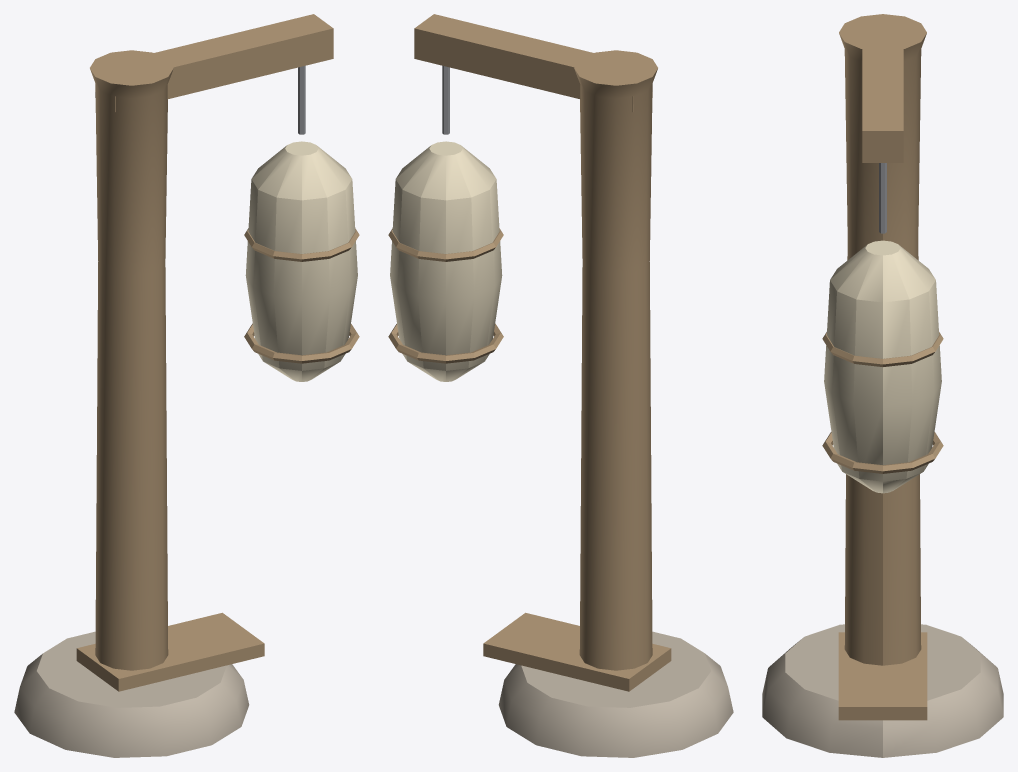
The model's file is roman-bathhouse-and-palaestra-punching-post-9bb15da8__37909.glb.
The picture shows the model from 3 angles, left to right: view 1: azimuth 30°, elevation 25°; view 2: azimuth 150°, elevation 25°; view 3: azimuth 270°, elevation 25°; orthographic projection. The views are drawn at different scales.
Parts seen in each view (by area): view 1: punching-post; view 2: punching-post; view 3: punching-post.
Boxes of the visible parts, box(x1,y1,x2,y2) form: punching-post: box(14, 14, 359, 757); punching-post: box(388, 14, 733, 757); punching-post: box(762, 14, 1003, 757).
Bounding box in the file's own units: 1.33 × 2.52 × 0.819.
